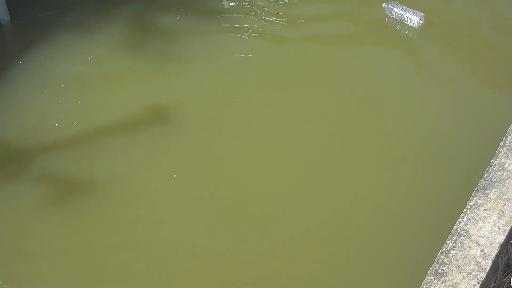plastic: (372, 0, 433, 35)
